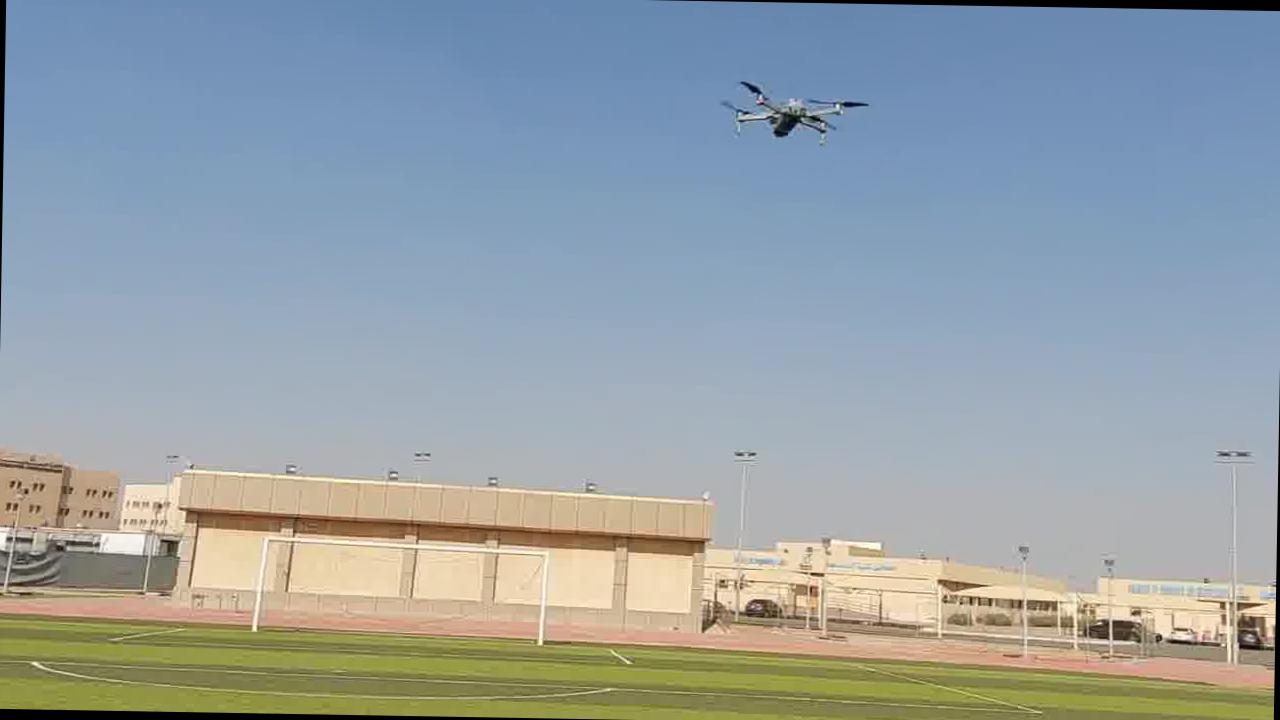drone: (718, 73, 872, 152)
